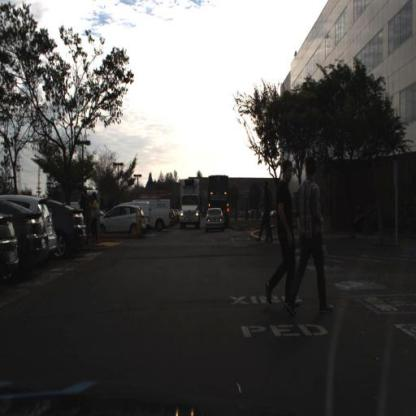car: (11, 197, 51, 278), (51, 199, 93, 252), (52, 199, 87, 259), (30, 197, 60, 254), (37, 195, 61, 260), (98, 205, 146, 237), (130, 197, 172, 230), (101, 206, 144, 238), (124, 203, 154, 233), (205, 207, 225, 232), (206, 209, 224, 233)
pedestrian: (293, 154, 331, 323), (267, 154, 302, 322), (260, 183, 274, 241), (91, 191, 105, 244), (261, 180, 271, 245), (90, 192, 99, 241), (266, 188, 272, 241)
truck: (179, 178, 204, 234), (177, 175, 201, 232), (208, 173, 230, 226), (208, 174, 232, 213), (144, 199, 172, 231), (143, 200, 153, 234)
